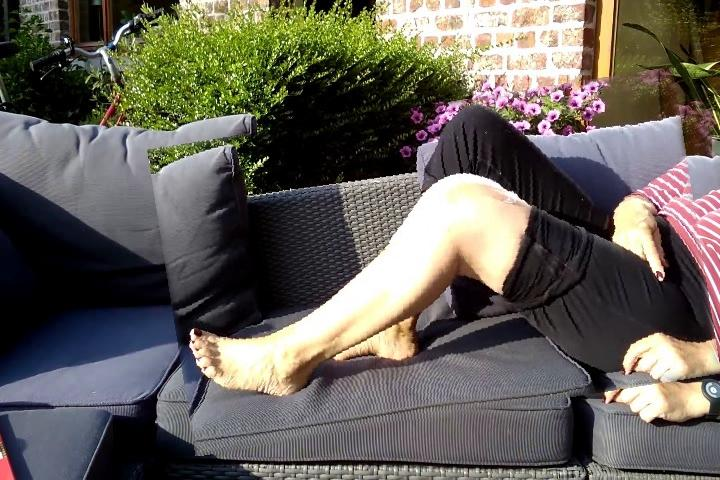lower_body: (158, 87, 712, 438)
